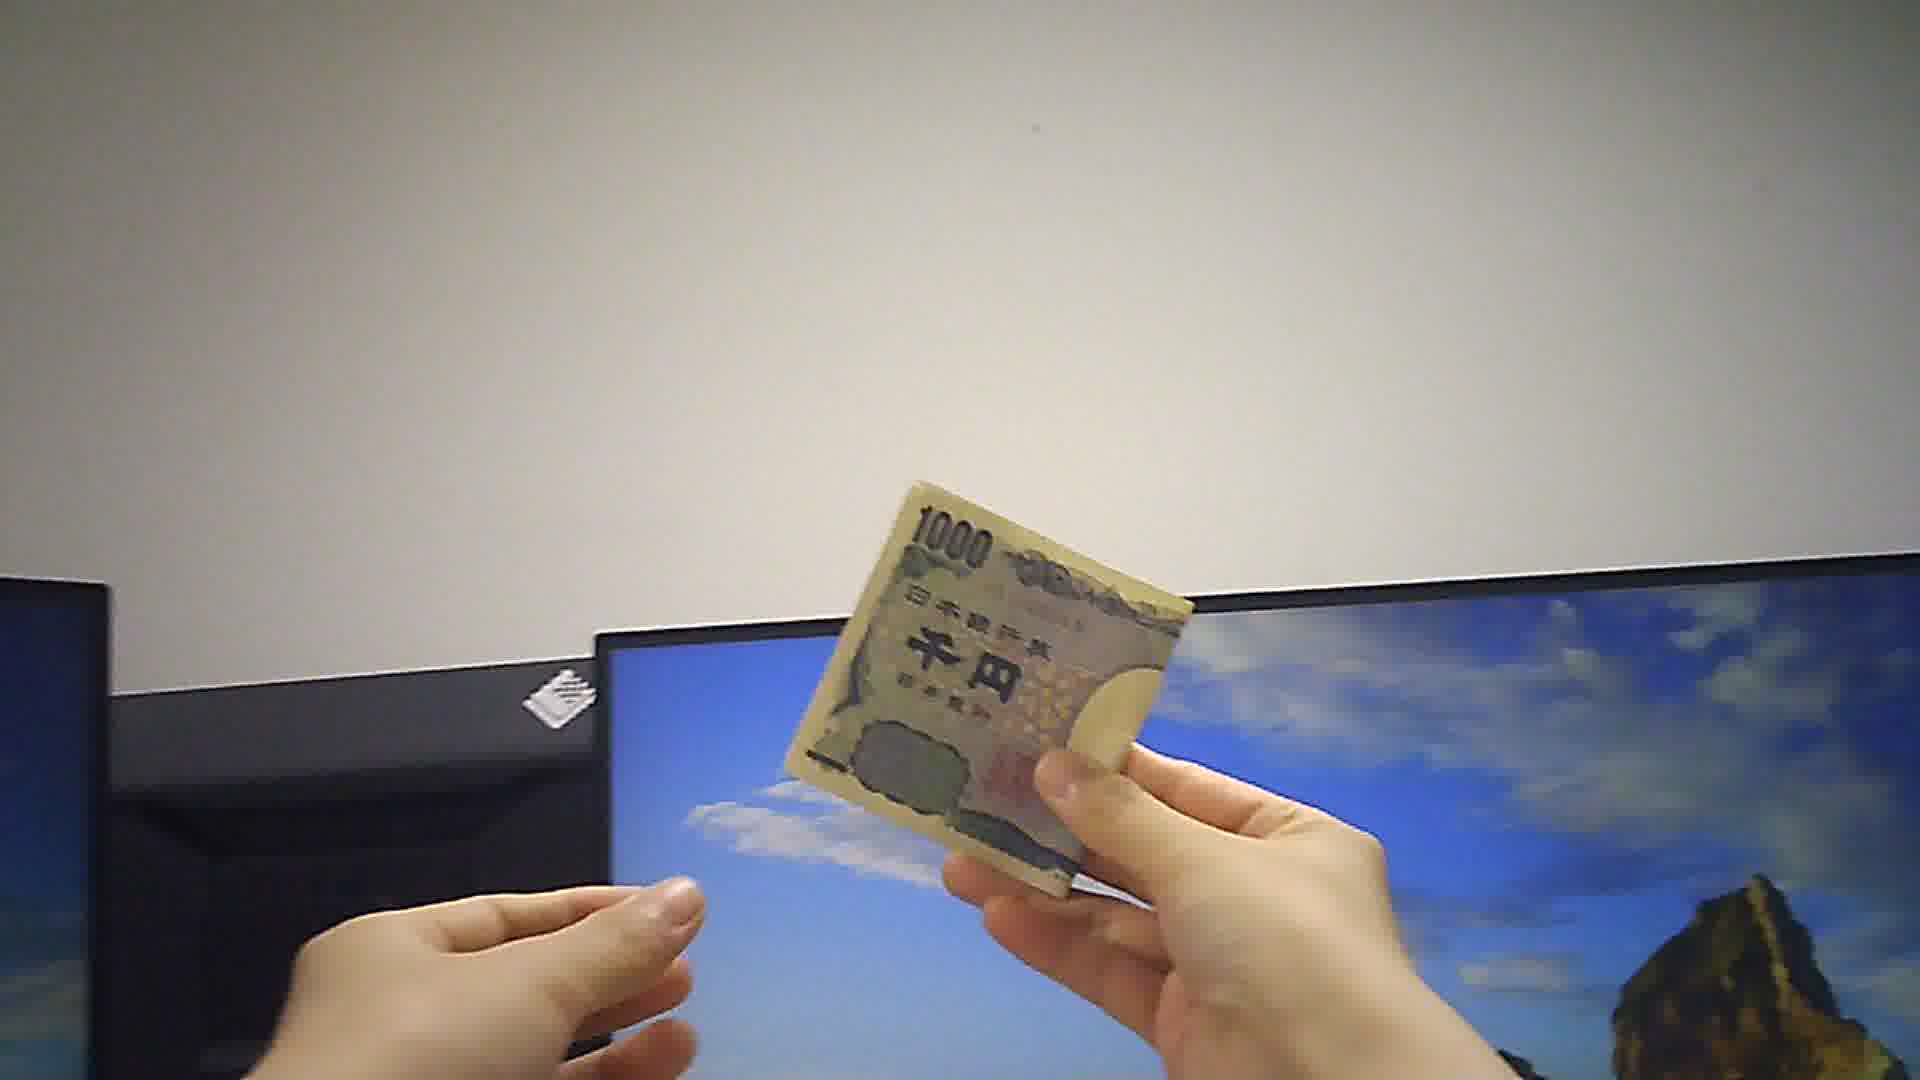1,000 Yen: (787, 477, 1218, 906)
